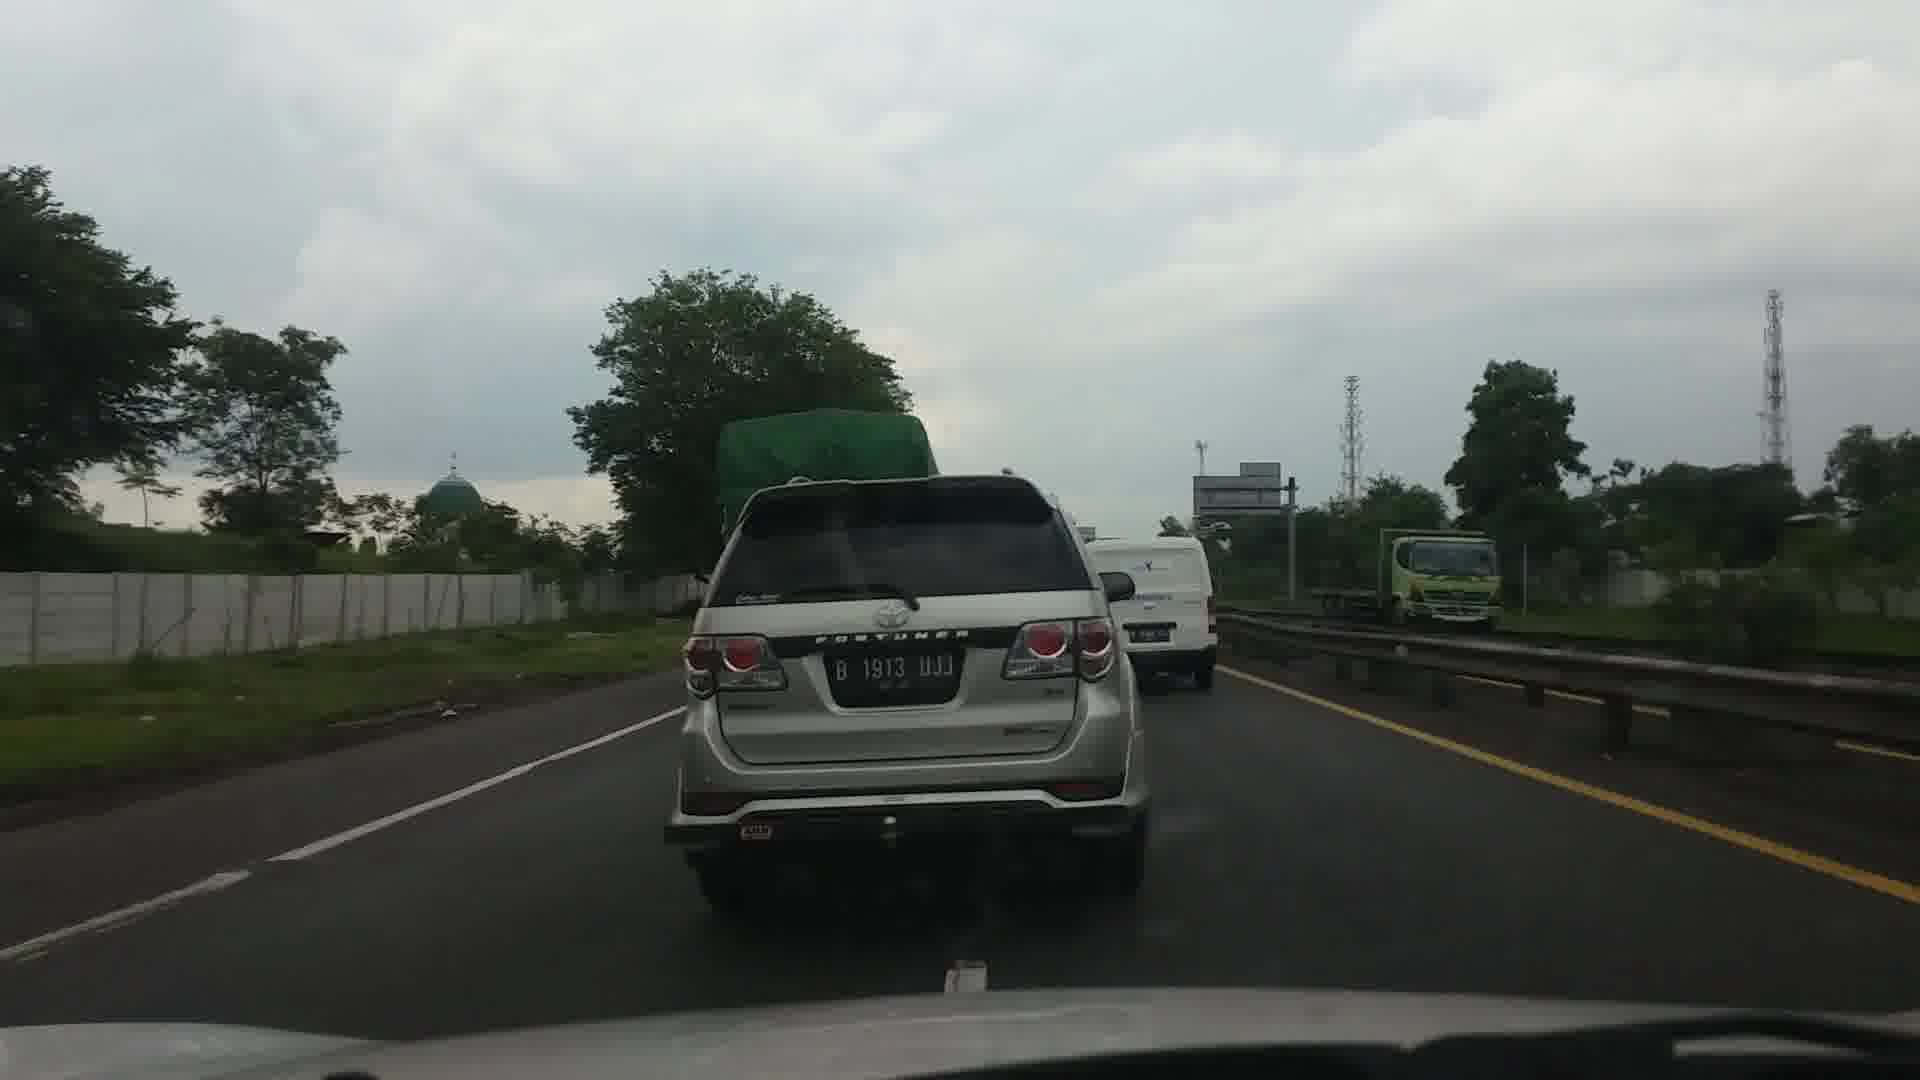plate_positive: (829, 651, 957, 694)
